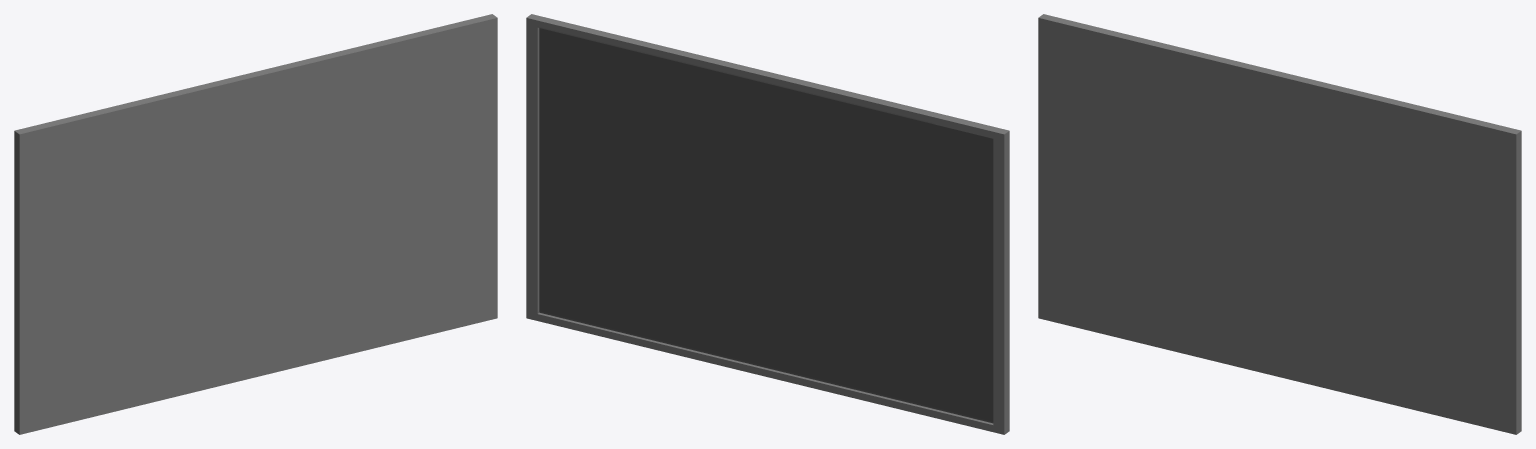
3 renders of one model, left to right at view 1: azimuth 30°, elevation 25°; view 2: azimuth 150°, elevation 25°; view 3: azimuth 330°, elevation 25°, orthographic.
Parts seen in each view (by area): view 1: tv; view 2: tv; view 3: tv.
Boxes of the visible parts, left/top/right/bottom form: tv: left=14, top=14, right=497, bottom=434; tv: left=526, top=14, right=1009, bottom=434; tv: left=1038, top=14, right=1521, bottom=434.
Bounding box in the file's own units: 150 × 90.37 × 2.84.
